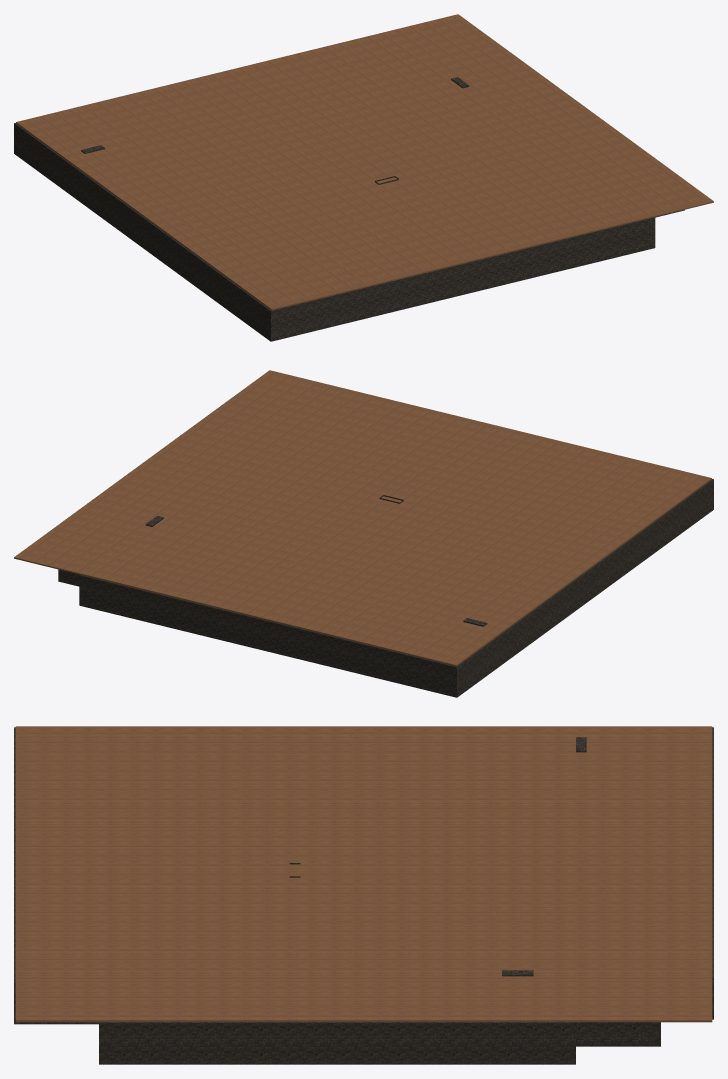
Rendered from Map.fbx.
3 renders of one model, top to bottom at view 1: azimuth 30°, elevation 25°; view 2: azimuth 150°, elevation 25°; view 3: azimuth 270°, elevation 25°, orthographic. The views are drawn at different scales.
Visible parts, largest first — view 1: Ceiling.001, Walls; view 2: Ceiling.001, Walls; view 3: Ceiling.001, Walls.
Boxes of the visible parts, bbox=[...] form: Ceiling.001: bbox=[16, 14, 713, 310]; Walls: bbox=[14, 123, 684, 341]; Ceiling.001: bbox=[14, 370, 711, 666]; Walls: bbox=[58, 479, 713, 697]; Ceiling.001: bbox=[15, 726, 712, 1022]; Walls: bbox=[14, 727, 713, 1064].
Size of the model in its own units: 16716 by 1183 by 16716.
